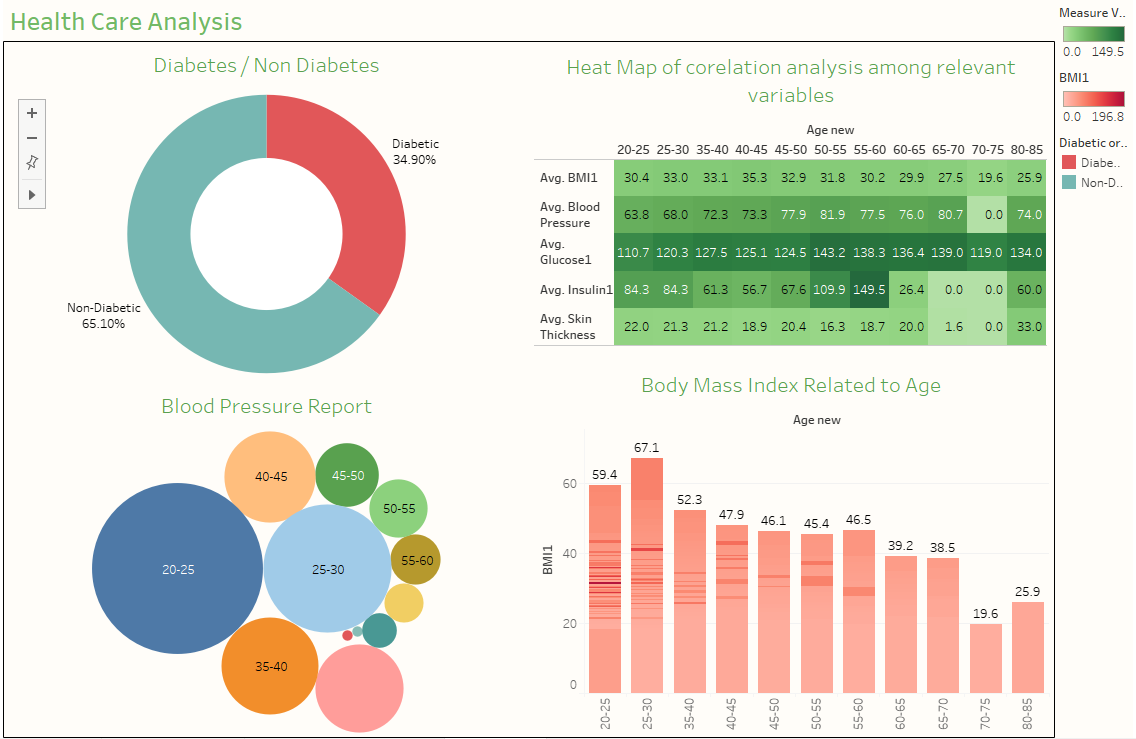

The page's visual inventory and layout, read from the dashboard file:
{"tool":"tableau","page":{"name":"Dashboard 1","canvas":[1000,1000],"units":"permille","ordinal":0},"visuals":[{"type":"title","box":[0,0,931,69.1]},{"type":"legend","title":"Heat Map of corelation analysis among relevant variables","param":"[federated.13xtmfo0yp9jc813bo58r11m1r5e].[Multiple Values]","box":[931,0,69,109.6]},{"type":"worksheet","title":"Donut Pie chart","mark":"Pie","rows":["Number of Records","Number of Records"],"box":[0.9,70.8,464.2,454.6]},{"type":"worksheet","title":"Heat Map of corelation analysis among relevant variables","mark":"Square","cols":["Calculation_79938895863570433"],"box":[465.1,70.8,465,426.7]},{"type":"legend","title":"Body Mass to age","param":"[federated.13xtmfo0yp9jc813bo58r11m1r5e].[sum:BMI:qk]","box":[931,109.6,69,109.6]},{"type":"legend","title":"Donut Pie chart","param":"[federated.13xtmfo0yp9jc813bo58r11m1r5e].[none:Calculation_1222164350539055104:n","box":[931,219.2,69,111.3]},{"type":"worksheet","title":"Body Mass to age","mark":"Bar","rows":["BMI"],"cols":["Calculation_79938895863570433"],"box":[465.1,497.5,465,500.8]},{"type":"worksheet","title":"Blood Pressure Report","mark":"Circle","box":[0.9,525.4,464.2,472.9]}]}

Visuals, with their boxes on the dashboard's canvas, which has no fixed pixel size, in thousandths of its width and height (x1, y1, x2, y2). These are canvas units, not pixel positions in the 1136x739 screenshot, which may show the page scaled, cropped or inside an application window:
title: rect(0, 0, 931, 69)
"Heat Map of corelation analysis among relevant variables" legend: rect(931, 0, 1000, 110)
"Donut Pie chart" worksheet (Pie marks): rect(1, 71, 465, 525)
"Heat Map of corelation analysis among relevant variables" worksheet (Square marks): rect(465, 71, 930, 498)
"Body Mass to age" legend: rect(931, 110, 1000, 219)
"Donut Pie chart" legend: rect(931, 219, 1000, 330)
"Body Mass to age" worksheet (Bar marks): rect(465, 498, 930, 998)
"Blood Pressure Report" worksheet (Circle marks): rect(1, 525, 465, 998)
